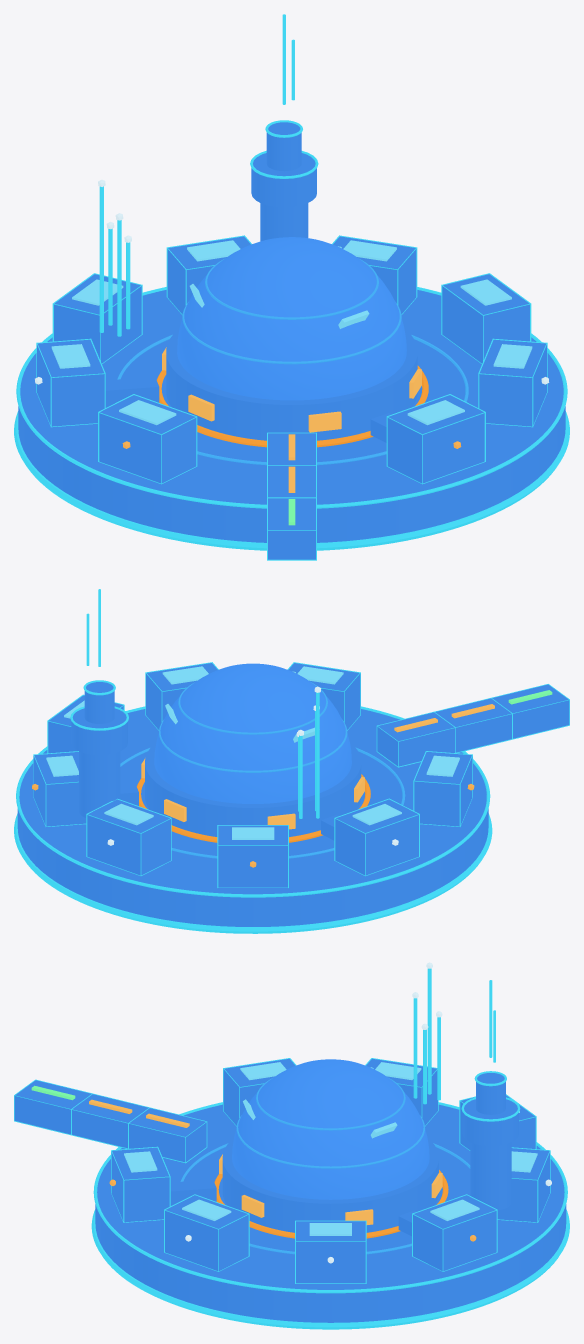
Rendered from station.glb.
3 renders of one model, top to bottom at view 1: azimuth 30°, elevation 25°; view 2: azimuth 150°, elevation 25°; view 3: azimuth 270°, elevation 25°, orthographic. The views are drawn at different scales.
Visible parts, largest first — view 1: body; view 2: body; view 3: body.
Boxes of the visible parts, box(x1,y1,x2,y2) form: body: box(14, 14, 569, 560); body: box(14, 589, 569, 933); body: box(14, 962, 569, 1329).
Size of the model in its own units: 0.8603 by 0.6012 by 1.
